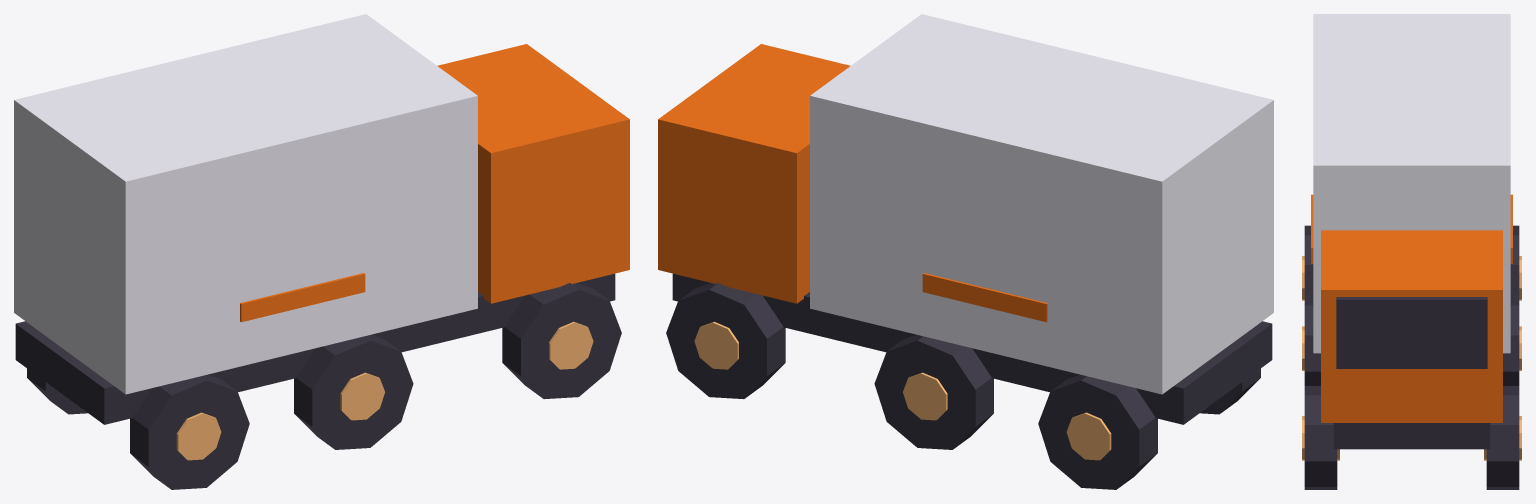
File: delivery.glb
3 views of the same model, side by side, from view 1: azimuth 30°, elevation 25°; view 2: azimuth 150°, elevation 25°; view 3: azimuth 270°, elevation 25° (orthographic). The views are drawn at different scales.
Visible parts, largest first — view 1: delivery; view 2: delivery; view 3: delivery.
Boxes of the visible parts, <box> form: delivery: <box>14,14,629,489</box>; delivery: <box>658,14,1273,489</box>; delivery: <box>1302,14,1521,489</box>.
Size of the model in its own units: 1.95 by 1.14 by 0.8004.
